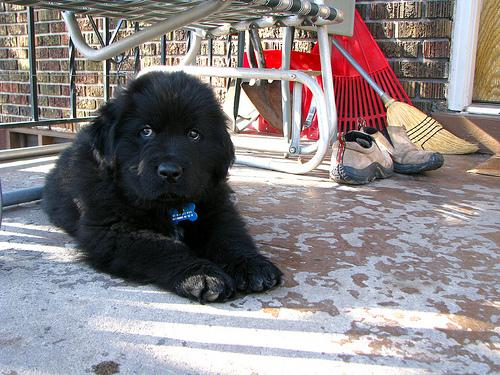dog-newfoundland: (87, 72, 232, 201)
